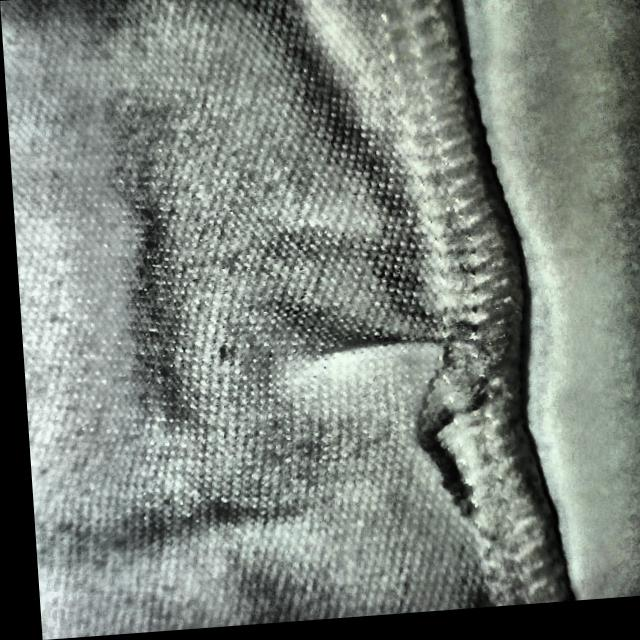seam: (333, 300, 532, 534)
